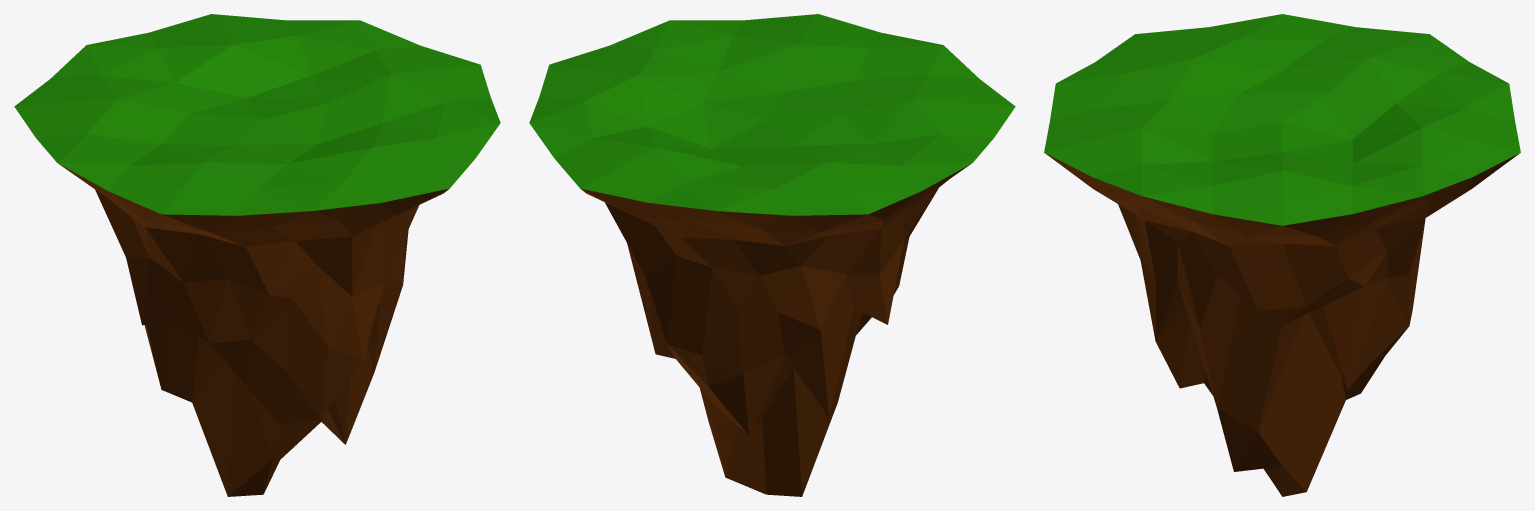
The model's file is Plattform_smooth.fbx.
3 renders of one model, left to right at view 1: azimuth 30°, elevation 25°; view 2: azimuth 150°, elevation 25°; view 3: azimuth 270°, elevation 25°, orthographic.
Visible parts, largest first — view 1: Icosphere.006; view 2: Icosphere.006; view 3: Icosphere.006.
Boxes of the visible parts, x1,y1,x2,y2 form: Icosphere.006: [14, 14, 500, 496]; Icosphere.006: [529, 14, 1015, 496]; Icosphere.006: [1044, 14, 1520, 496].
Size of the model in its own units: 1746 by 1532 by 1702.
